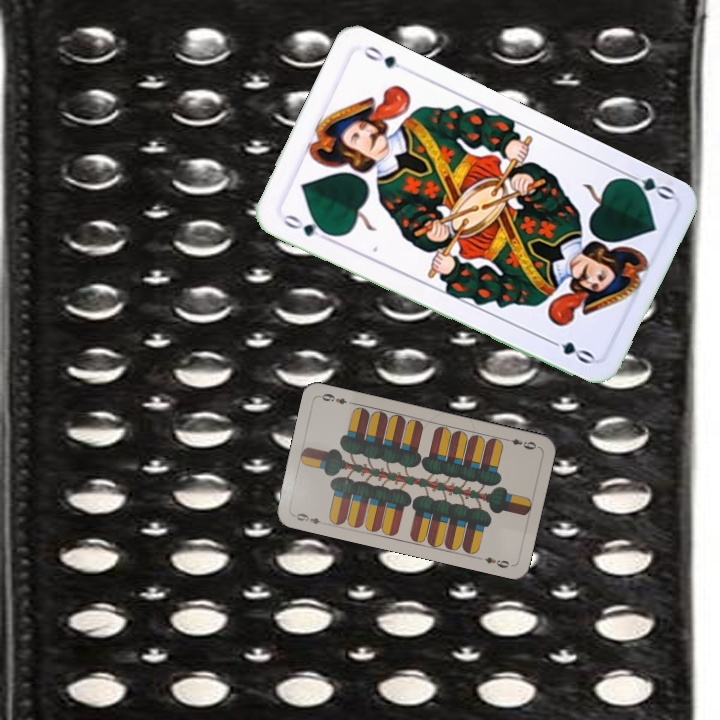E9: (289, 509, 329, 527), (500, 434, 539, 452)
GO: (617, 167, 677, 203), (279, 210, 334, 244)
